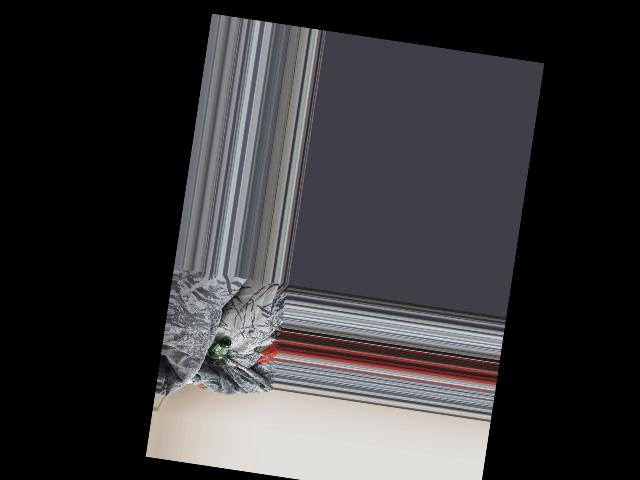beer: (205, 335, 231, 365)
